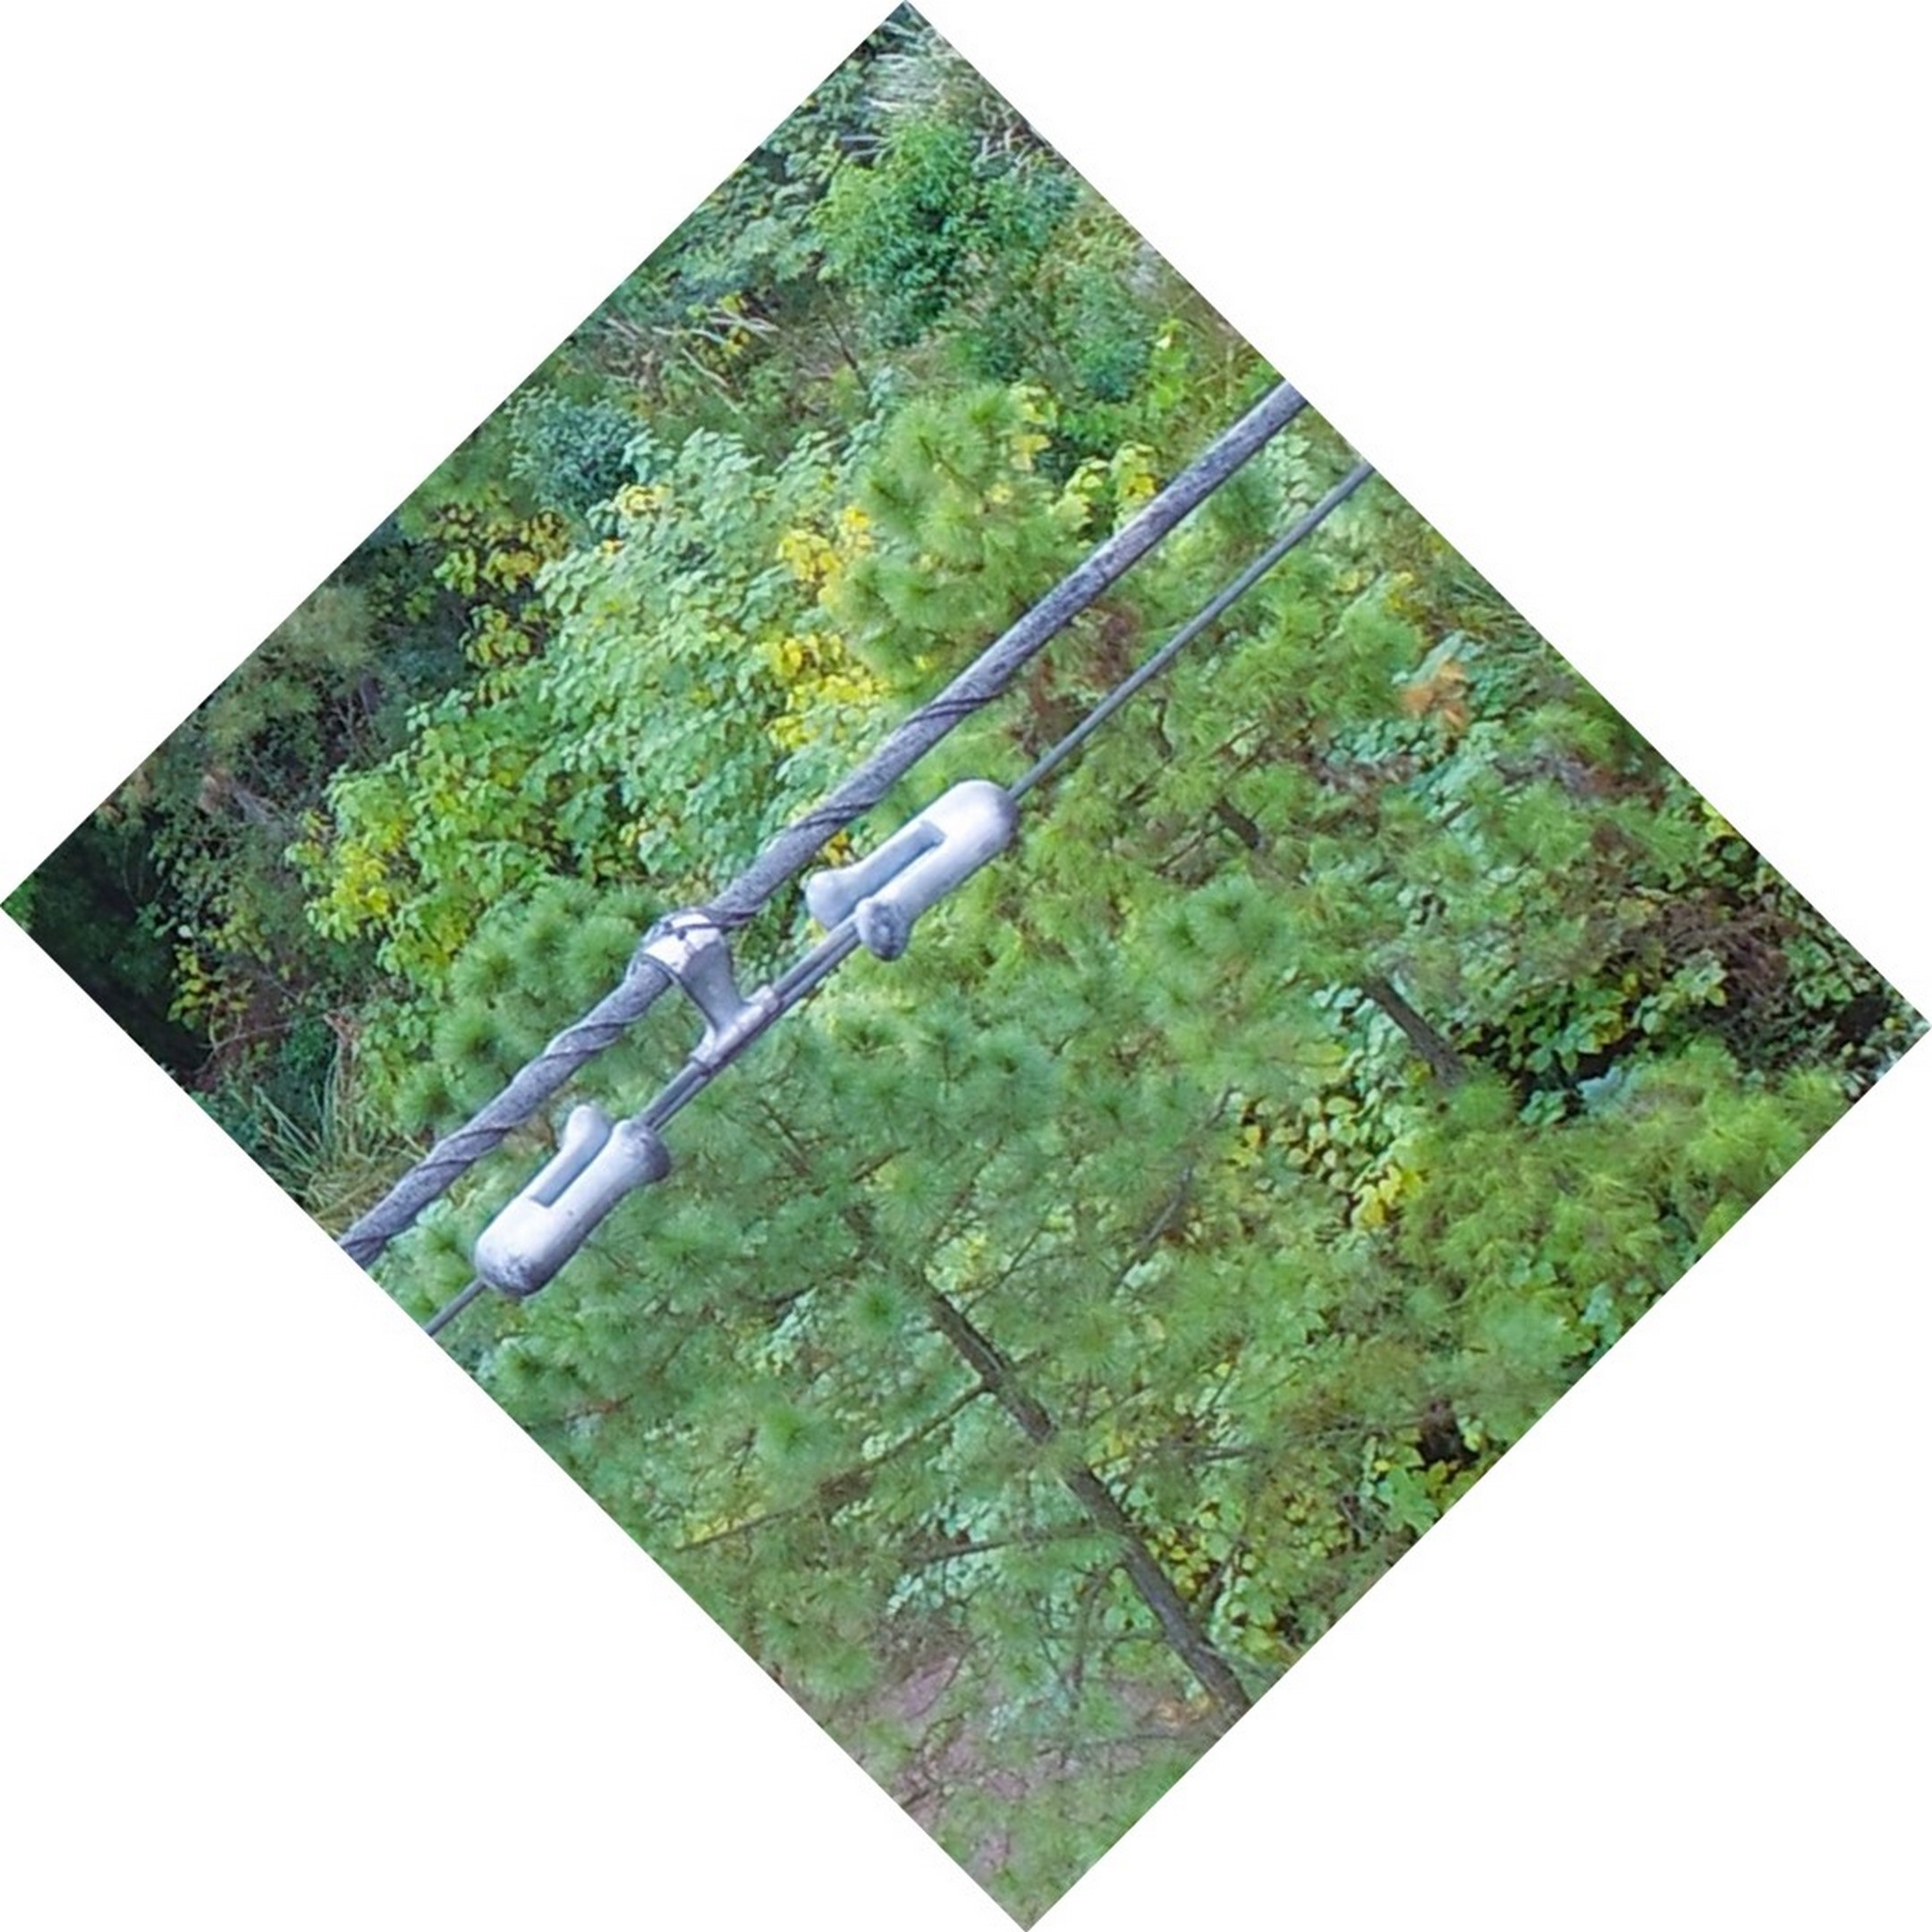Shockproof hammer: (446, 754, 1047, 1315)
